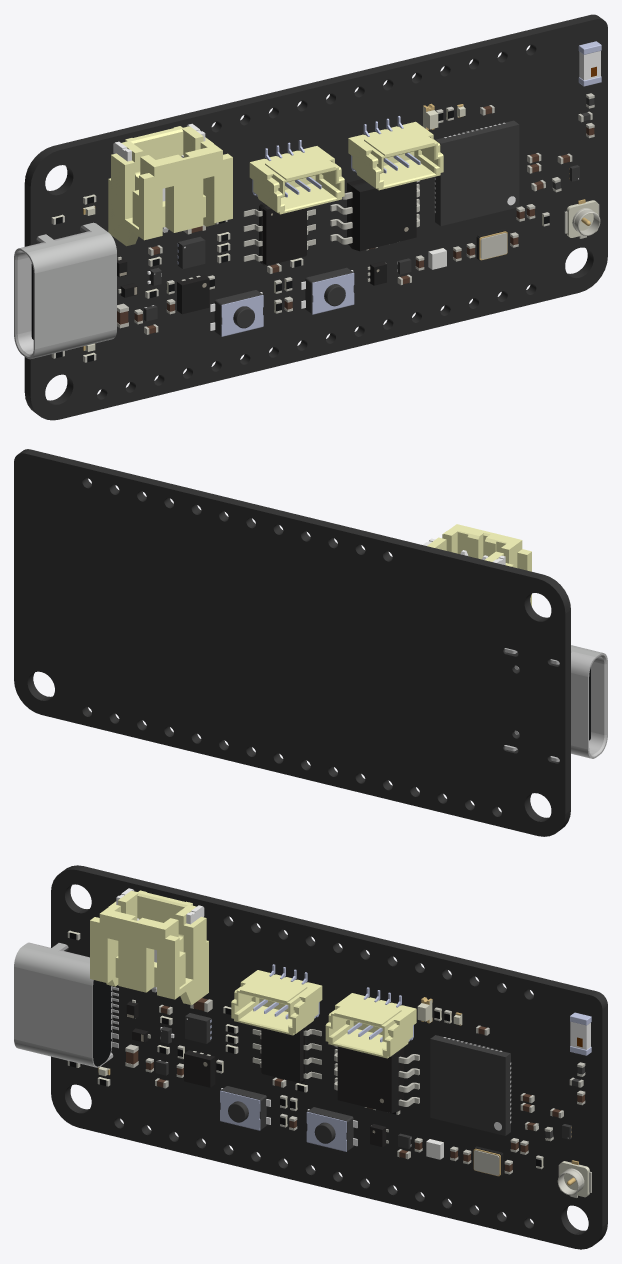
Rendered from .feathers3d.step.glb.
The picture shows the model from 3 angles, top to bottom: view 1: azimuth 30°, elevation 25°; view 2: azimuth 150°, elevation 25°; view 3: azimuth 330°, elevation 25°; orthographic projection. The views are drawn at different scales.
Visible parts, largest first — view 1: o1.72, o1.51, o1.12, o1.17, o1.50, o1.64, o1.32, o1.22, o1.18.1, o1.11.1, o1.26, o1.41 (+3 smaller); view 2: o1.72, o1.12, o1.51; view 3: o1.72, o1.51, o1.12, o1.17, o1.50, o1.64, o1.32, o1.22, o1.18.1, o1.11.1, o1.26, o1.41 (+3 smaller).
Part boxes in pixels (left/top/right/bottom): o1.72: left=24, top=14, right=607, bottom=420; o1.51: left=108, top=123, right=232, bottom=246; o1.12: left=14, top=222, right=116, bottom=359; o1.17: left=434, top=120, right=519, bottom=226; o1.50: left=249, top=140, right=344, bottom=214; o1.64: left=348, top=116, right=443, bottom=190; o1.32: left=330, top=179, right=419, bottom=251; o1.22: left=243, top=203, right=315, bottom=265; o1.18.1: left=301, top=267, right=354, bottom=314; o1.11.1: left=210, top=290, right=263, bottom=336; o1.26: left=564, top=199, right=600, bottom=238; o1.41: left=177, top=275, right=209, bottom=314; o1.72: left=14, top=449, right=570, bottom=836; o1.12: left=504, top=645, right=607, bottom=761; o1.51: left=423, top=524, right=531, bottom=606; o1.72: left=51, top=865, right=607, bottom=1249; o1.51: left=90, top=888, right=208, bottom=1005; o1.12: left=14, top=942, right=118, bottom=1067; o1.17: left=430, top=1035, right=511, bottom=1135; o1.50: left=231, top=964, right=322, bottom=1035; o1.64: left=325, top=987, right=416, bottom=1058; o1.32: left=334, top=1045, right=419, bottom=1113; o1.22: left=252, top=1026, right=321, bottom=1082; o1.18.1: left=306, top=1107, right=357, bottom=1151; o1.11.1: left=220, top=1086, right=270, bottom=1130; o1.26: left=557, top=1160, right=591, bottom=1197; o1.41: left=184, top=1050, right=215, bottom=1087.
Bounding box in the file's own units: 0.0528 × 0.0229 × 0.0065.
